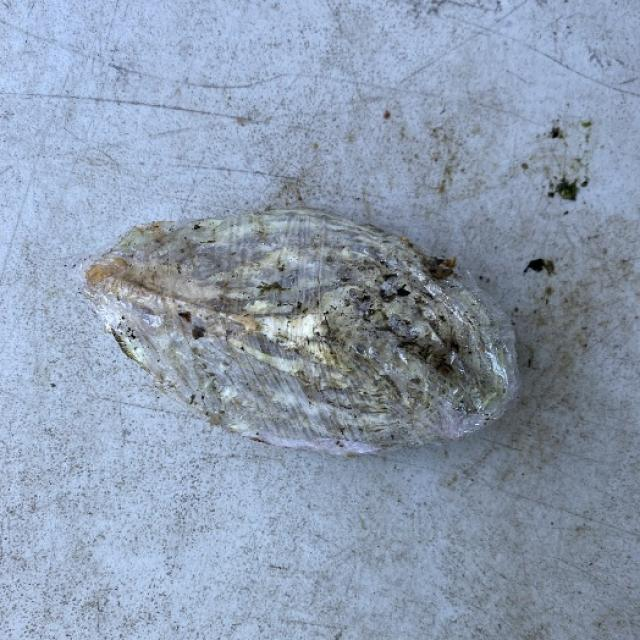organik: (90, 202, 517, 452)
